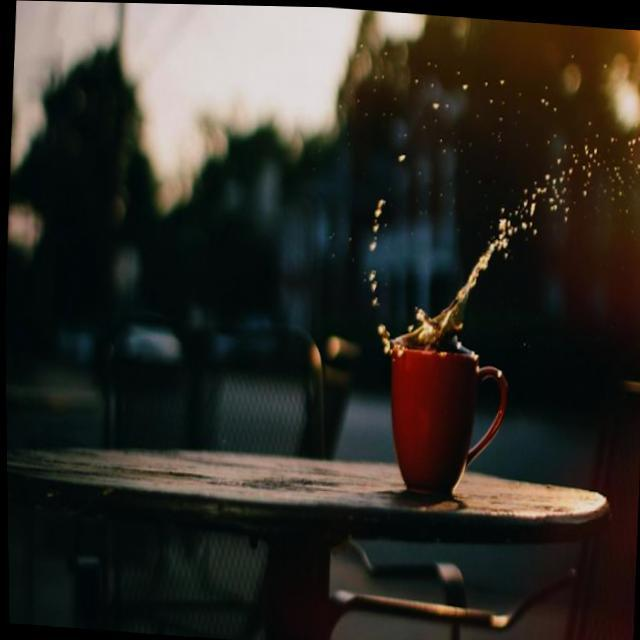cup: (357, 278, 530, 520)
